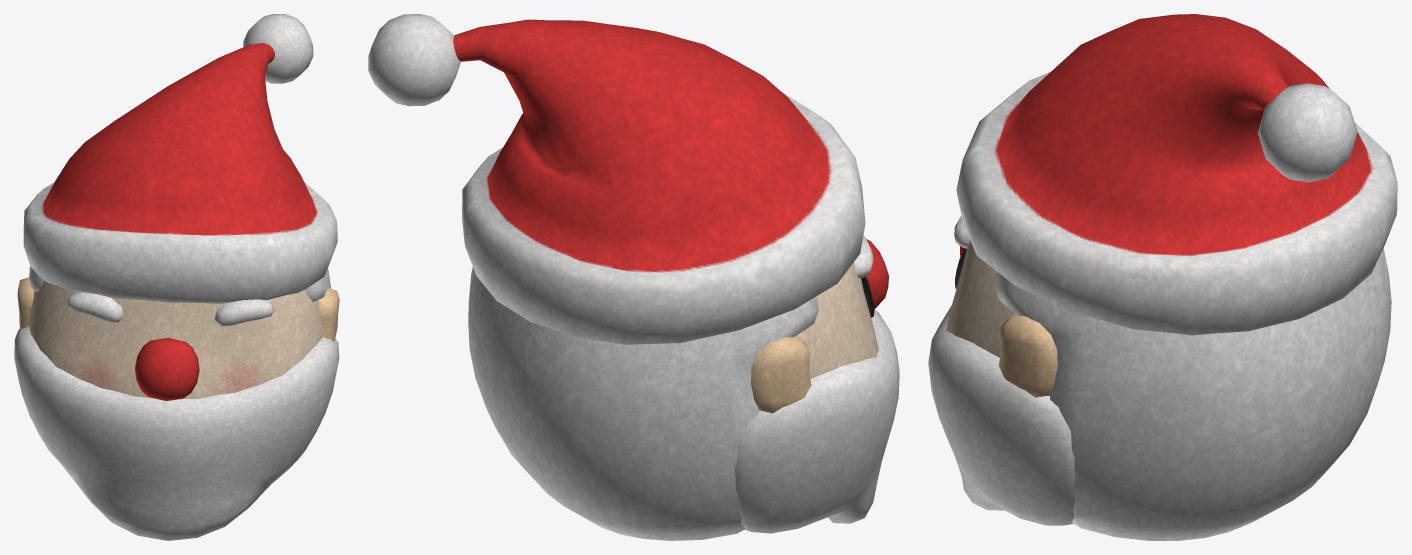
The model's file is chrismasSnackman.glb.
3 views of the same model, side by side, from view 1: azimuth 30°, elevation 25°; view 2: azimuth 150°, elevation 25°; view 3: azimuth 270°, elevation 25° (orthographic). The views are drawn at different scales.
Visible parts, largest first — view 1: Head.001_1; view 2: Head.001_1; view 3: Head.001_1.
Part boxes in pixels (bbox=[...]): Head.001_1: bbox=[14, 14, 339, 540]; Head.001_1: bbox=[368, 14, 899, 540]; Head.001_1: bbox=[928, 14, 1397, 540].
Size of the model in its own units: 0.823 by 0.9383 by 0.7197.
1 material, 1 textured.
